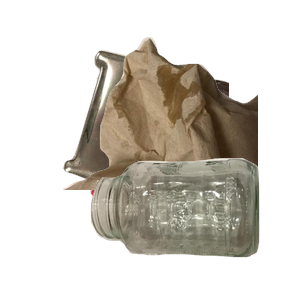glass: (88, 156, 300, 300)
metal: (60, 47, 300, 227)
plastic: (87, 178, 234, 300)
trash: (60, 35, 300, 215)
